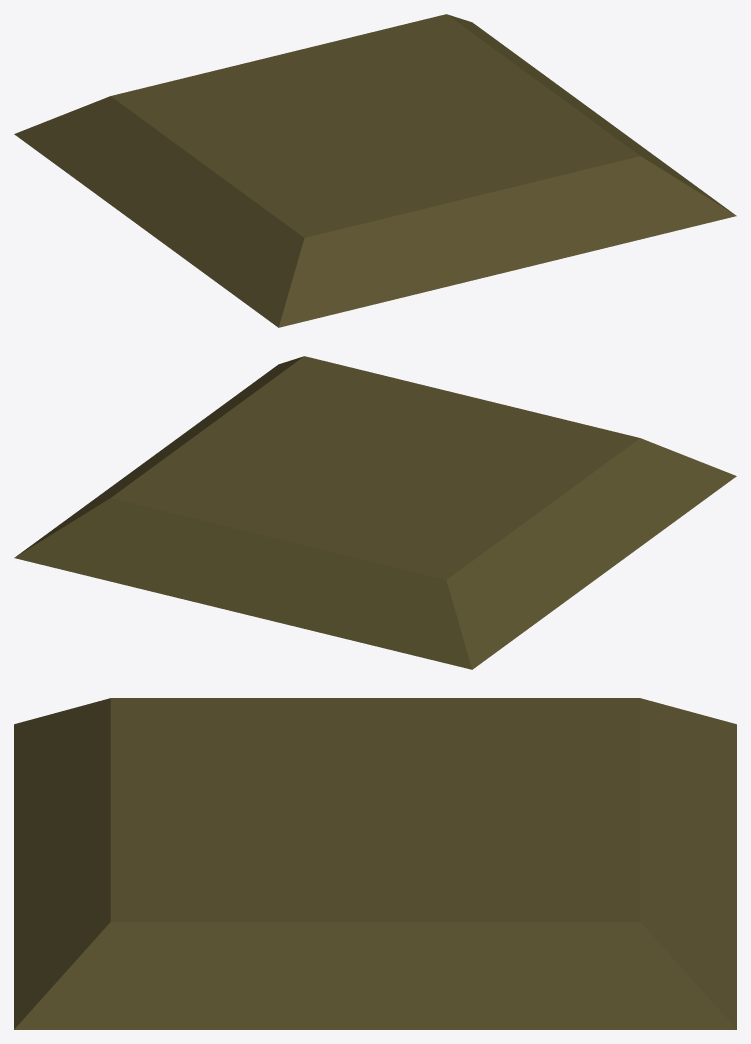
The model's file is Land.glb.
The picture shows the model from 3 angles, top to bottom: view 1: azimuth 30°, elevation 25°; view 2: azimuth 150°, elevation 25°; view 3: azimuth 270°, elevation 25°; orthographic projection. The views are drawn at different scales.
Visible parts, largest first — view 1: Land; view 2: Land; view 3: Land.
Part boxes in pixels (left/top/right/bottom): Land: left=14, top=14, right=736, bottom=327; Land: left=14, top=356, right=736, bottom=669; Land: left=14, top=698, right=736, bottom=1029.
Bounding box in the file's own units: 2 × 0.2044 × 2.
